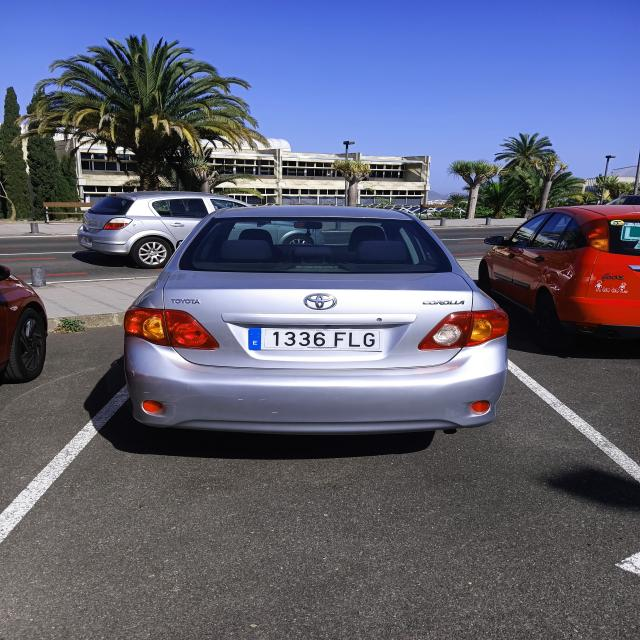football: (248, 327, 386, 351)
